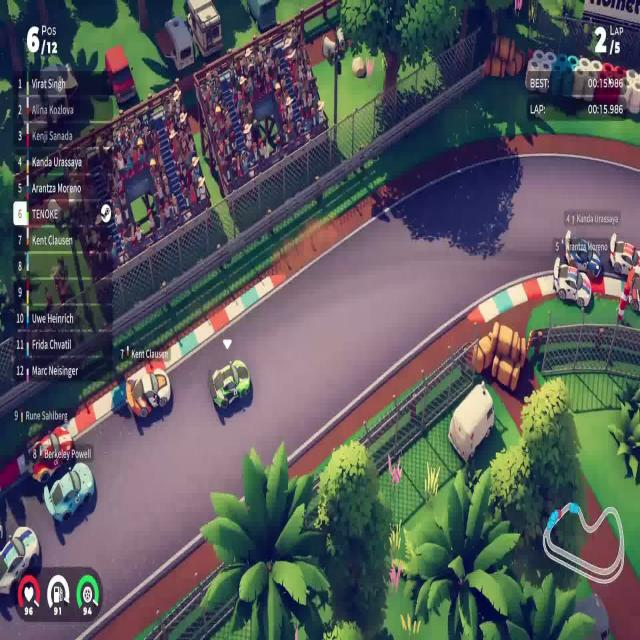car: (43, 460, 95, 524), (125, 362, 171, 420), (552, 256, 592, 311), (210, 358, 251, 411), (23, 430, 73, 472), (564, 231, 602, 281)
